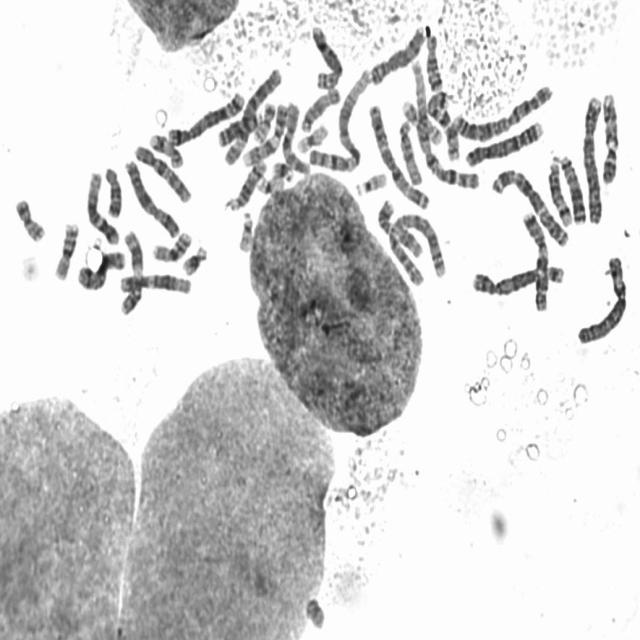A1: (406, 54, 481, 192), (305, 61, 372, 174)
A2: (450, 77, 555, 143), (386, 207, 449, 288)
A3: (364, 97, 431, 210), (488, 161, 572, 249)
B4: (462, 114, 546, 169), (579, 88, 605, 225)
B5: (164, 86, 248, 146), (466, 256, 567, 298)
C10: (129, 136, 194, 205), (278, 95, 313, 177)
C11: (372, 194, 426, 262), (116, 225, 145, 316)
C12: (82, 164, 120, 246), (114, 266, 194, 296)
C6: (218, 61, 284, 165), (574, 249, 629, 346)
C7: (518, 204, 552, 314), (423, 85, 462, 163)
C8: (366, 20, 427, 87), (307, 19, 344, 90)
C9: (238, 96, 290, 167), (597, 86, 621, 185)
D13: (555, 147, 589, 226), (213, 106, 262, 149)
D14: (221, 154, 268, 212), (544, 154, 575, 227)
D15: (296, 80, 342, 134), (394, 114, 425, 188)
E16: (50, 215, 80, 282), (148, 224, 194, 263)
E17: (397, 92, 445, 144), (144, 125, 186, 170)
E18: (422, 28, 444, 92), (100, 160, 124, 218)
F19: (293, 117, 330, 153), (252, 169, 285, 195)
F20: (10, 190, 47, 244), (249, 96, 277, 144)
G21: (179, 239, 209, 277), (269, 156, 295, 182)
G22: (352, 165, 388, 196), (234, 204, 255, 253)
X: (120, 152, 182, 239), (72, 244, 127, 293)
